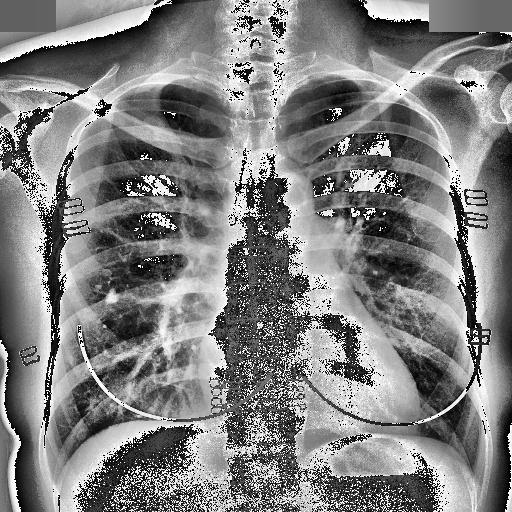11- Pleural thickening: (104, 80, 166, 100)
13- Pulmonary fibrosis: (105, 288, 119, 306), (94, 283, 102, 290)
2- Calcification: (91, 281, 122, 304)
8- Nodule-Mass: (102, 288, 121, 306), (105, 288, 119, 306), (92, 281, 104, 294), (102, 270, 112, 276), (94, 283, 102, 290), (102, 325, 108, 329)
